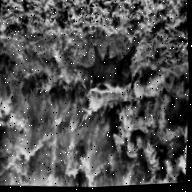boar: (72, 40, 139, 100)
